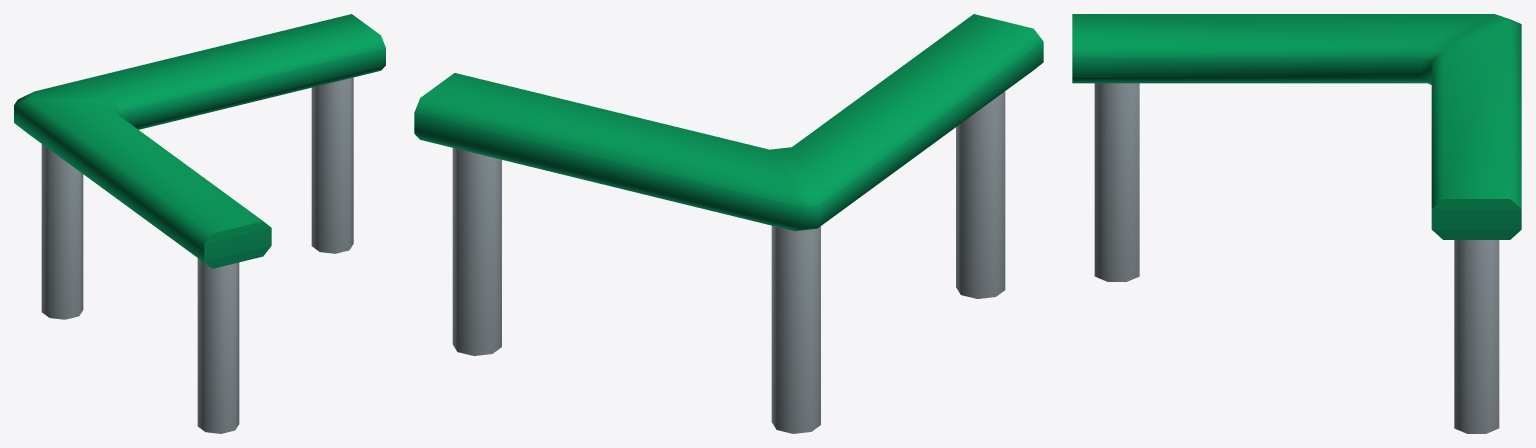
Rendered from kaykit_railing_corner_single_green.glb.
3 renders of one model, left to right at view 1: azimuth 30°, elevation 25°; view 2: azimuth 150°, elevation 25°; view 3: azimuth 270°, elevation 25°, orthographic. The views are drawn at different scales.
Visible parts, largest first — view 1: railing_corner_single_green_visual; view 2: railing_corner_single_green_visual; view 3: railing_corner_single_green_visual.
Part boxes in pixels (box(x1,y1,x2,y2)): railing_corner_single_green_visual: box(14, 14, 385, 433); railing_corner_single_green_visual: box(414, 14, 1043, 433); railing_corner_single_green_visual: box(1072, 14, 1521, 433).
Size of what is drawn, in the model's own units: 2 by 1.2 by 2.
1 material, 1 textured.
